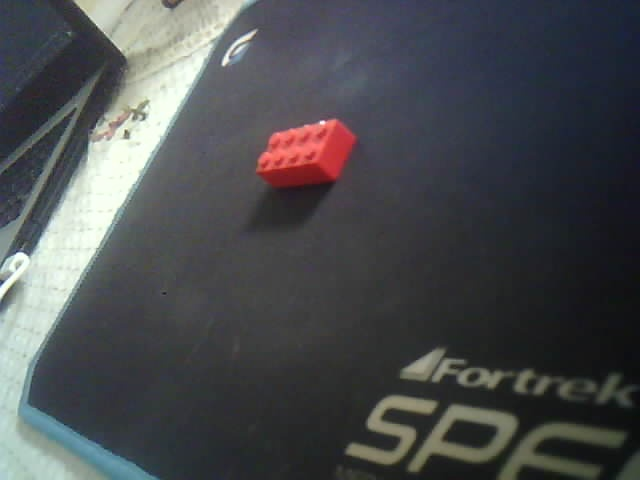lego: (255, 118, 357, 188)
